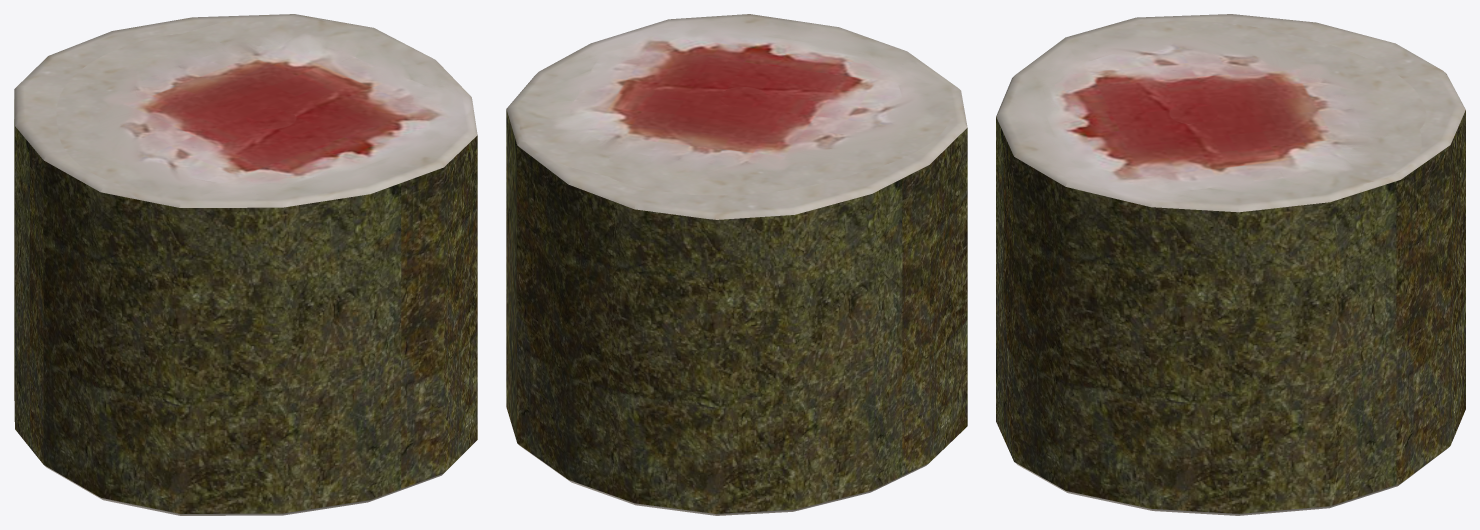
Rendered from _unaroll.fbx.
3 renders of one model, left to right at view 1: azimuth 30°, elevation 25°; view 2: azimuth 150°, elevation 25°; view 3: azimuth 270°, elevation 25°, orthographic. The views are drawn at different scales.
Visible parts, largest first — view 1: sushi_1_05; view 2: sushi_1_05; view 3: sushi_1_05.
Boxes of the visible parts, x1,y1,x2,y2 form: sushi_1_05: (14,14,477,515); sushi_1_05: (506,14,967,515); sushi_1_05: (996,14,1465,515).
Bounding box in the file's own units: 69.85 × 52.4 × 71.47.
1 material, 1 textured.
